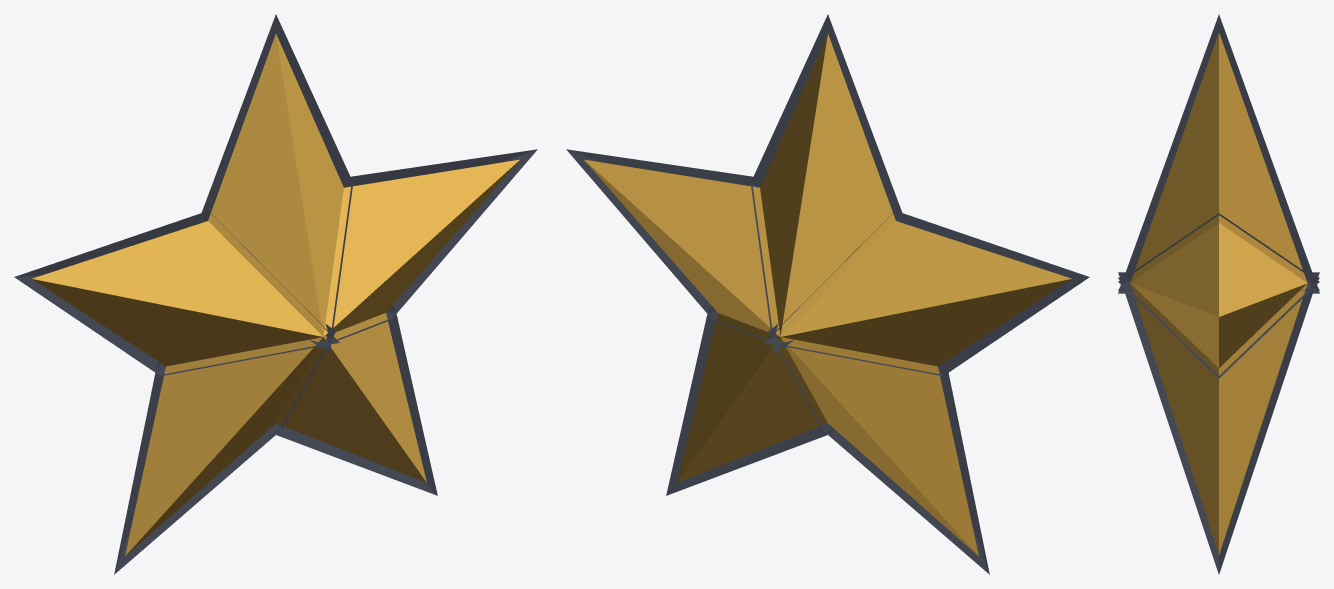
File: star.glb
The picture shows the model from 3 angles, left to right: view 1: azimuth 30°, elevation 25°; view 2: azimuth 150°, elevation 25°; view 3: azimuth 270°, elevation 25°; orthographic projection. The views are drawn at different scales.
Parts seen in each view (by area): view 1: star, ink_outline; view 2: star, ink_outline; view 3: star, ink_outline.
Boxes of the visible parts, x1=… form: star: x1=32, y1=34, x2=519, y2=556; ink_outline: x1=14, y1=14, x2=537, y2=574; star: x1=584, y1=34, x2=1071, y2=556; ink_outline: x1=566, y1=14, x2=1089, y2=574; star: x1=1130, y1=33, x2=1307, y2=554; ink_outline: x1=1118, y1=14, x2=1319, y2=574.
Bounding box in the file's own units: 0.051 × 0.0485 × 0.0182.
